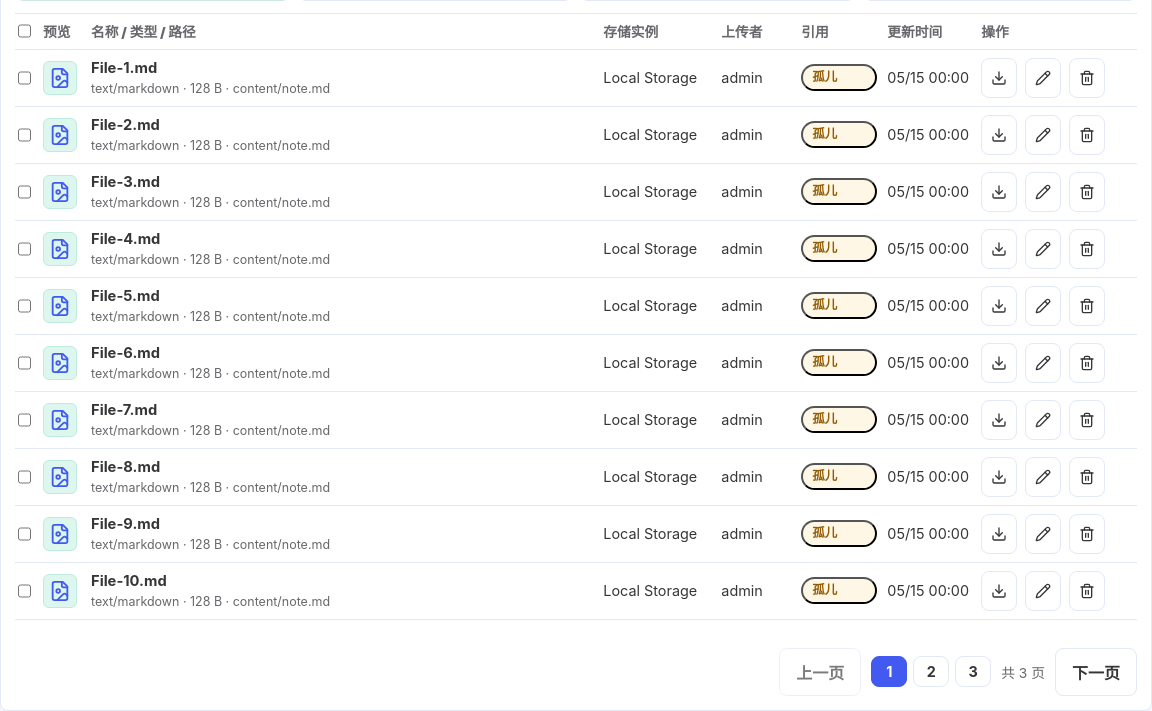
Test: StudioAttachmentsPage › switches pages within the current batch without refetching
(page scrolled)
Expected: the text "File-1.md" is shown, [91, 59, 157, 77]
Click the button named "第 2 页": (931, 672) [913, 656, 949, 687]
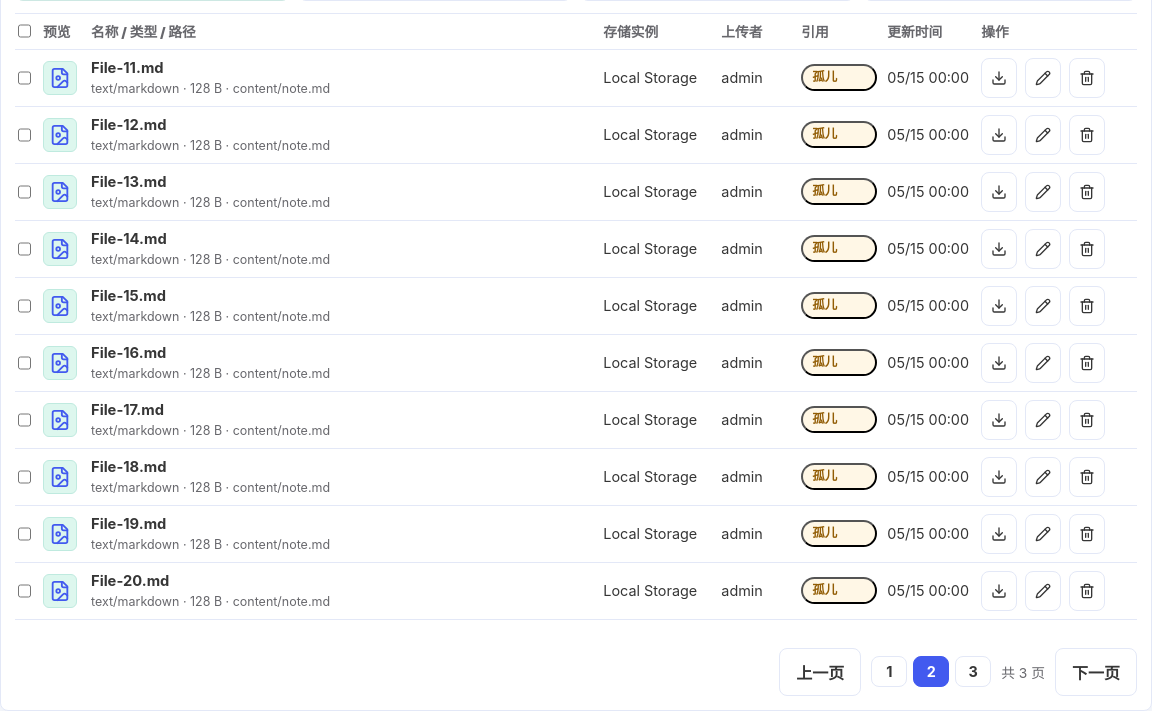
Expected: the text "File-11.md" is shown, [91, 59, 164, 77]
